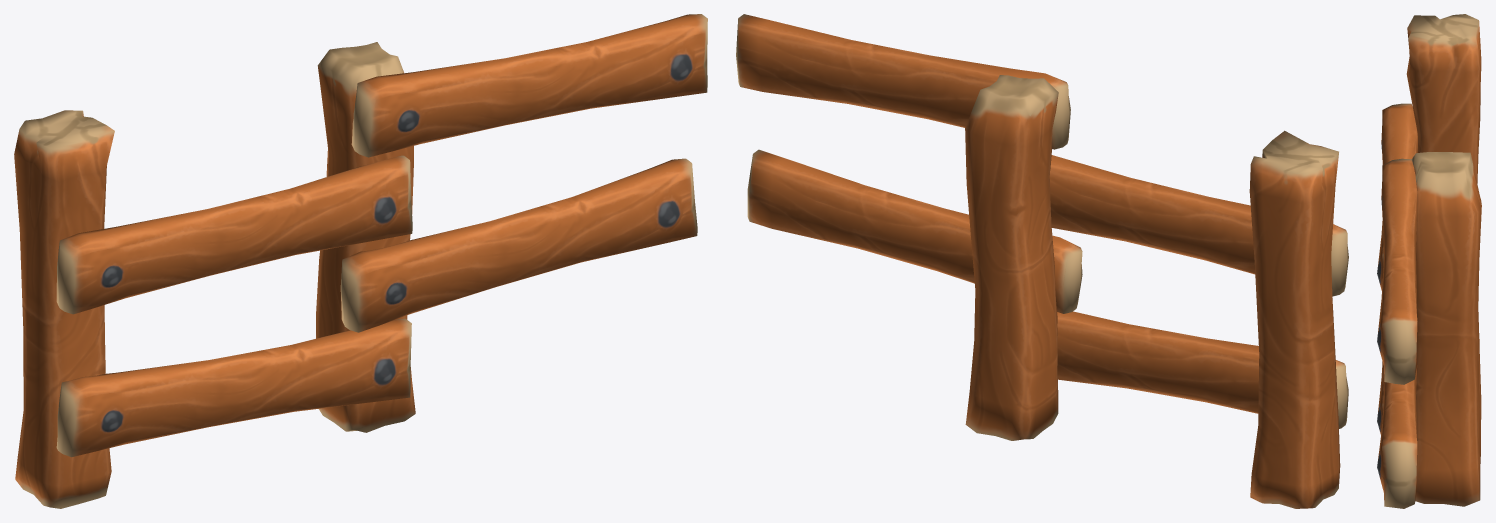
The model's file is fance8.fbx.
The picture shows the model from 3 angles, left to right: view 1: azimuth 30°, elevation 25°; view 2: azimuth 150°, elevation 25°; view 3: azimuth 270°, elevation 25°; orthographic projection. The views are drawn at different scales.
Parts seen in each view (by area): view 1: Retopo_Cube.014; view 2: Retopo_Cube.014; view 3: Retopo_Cube.014.
Part boxes in pixels (x1,y1,x2,y2): Retopo_Cube.014: [14, 14, 707, 508]; Retopo_Cube.014: [736, 14, 1348, 508]; Retopo_Cube.014: [1377, 14, 1481, 508].
Size of the model in its own units: 933 by 504 by 142.
